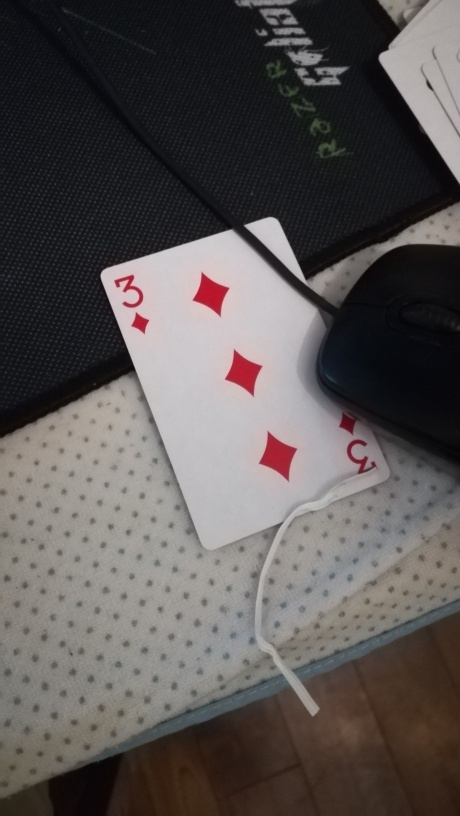fk 3: (95, 214, 391, 554)
